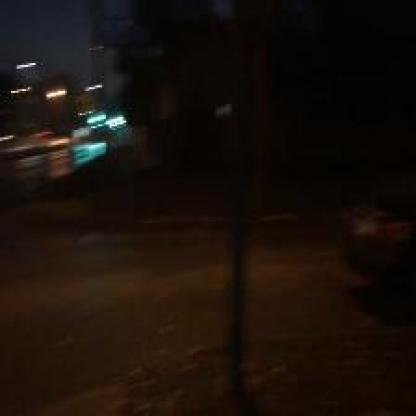other: (43, 130, 76, 148), (34, 82, 69, 98)
